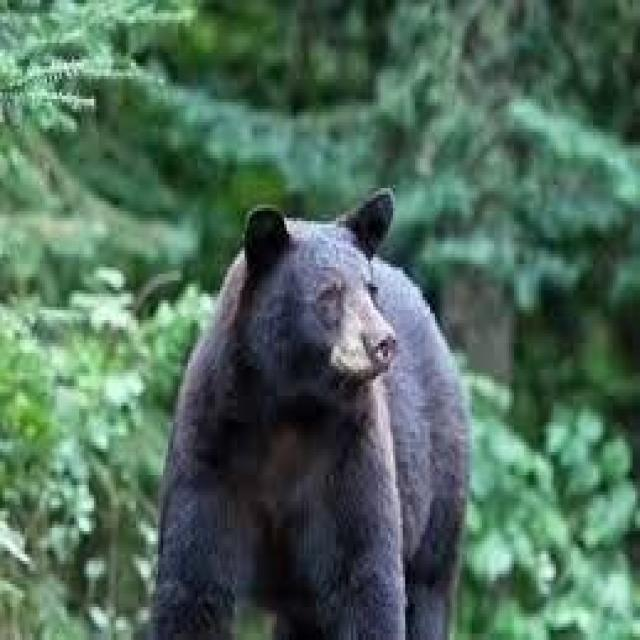Bear: (146, 188, 469, 640)
